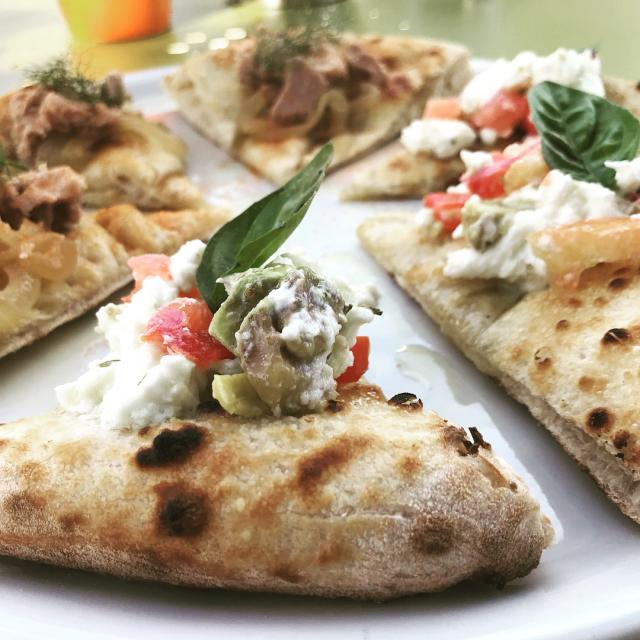basil: (194, 144, 336, 307), (530, 82, 640, 193)
pizza: (0, 19, 640, 606)
